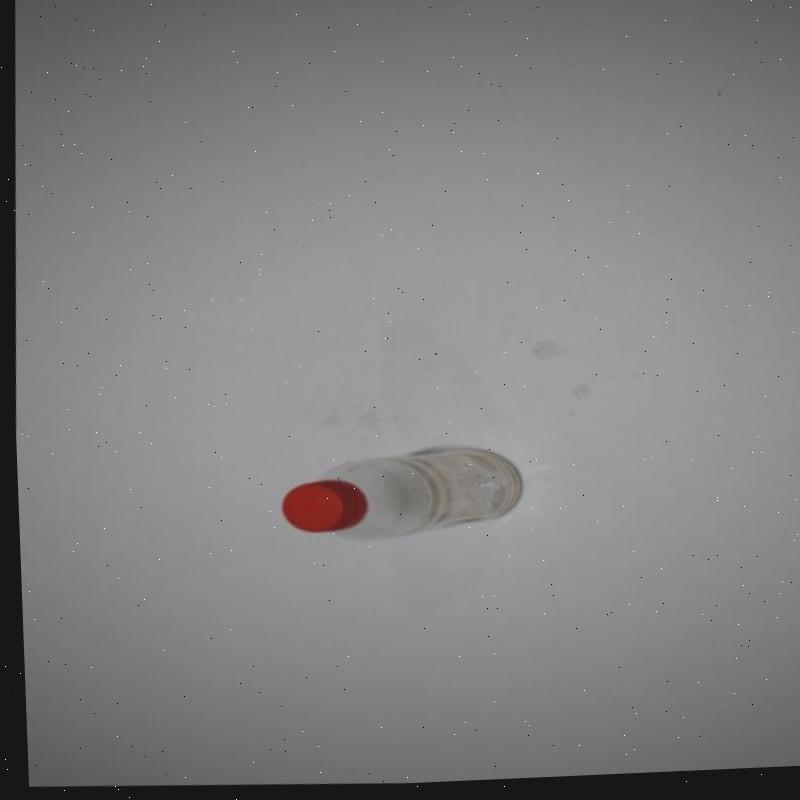botella: (271, 441, 522, 552)
